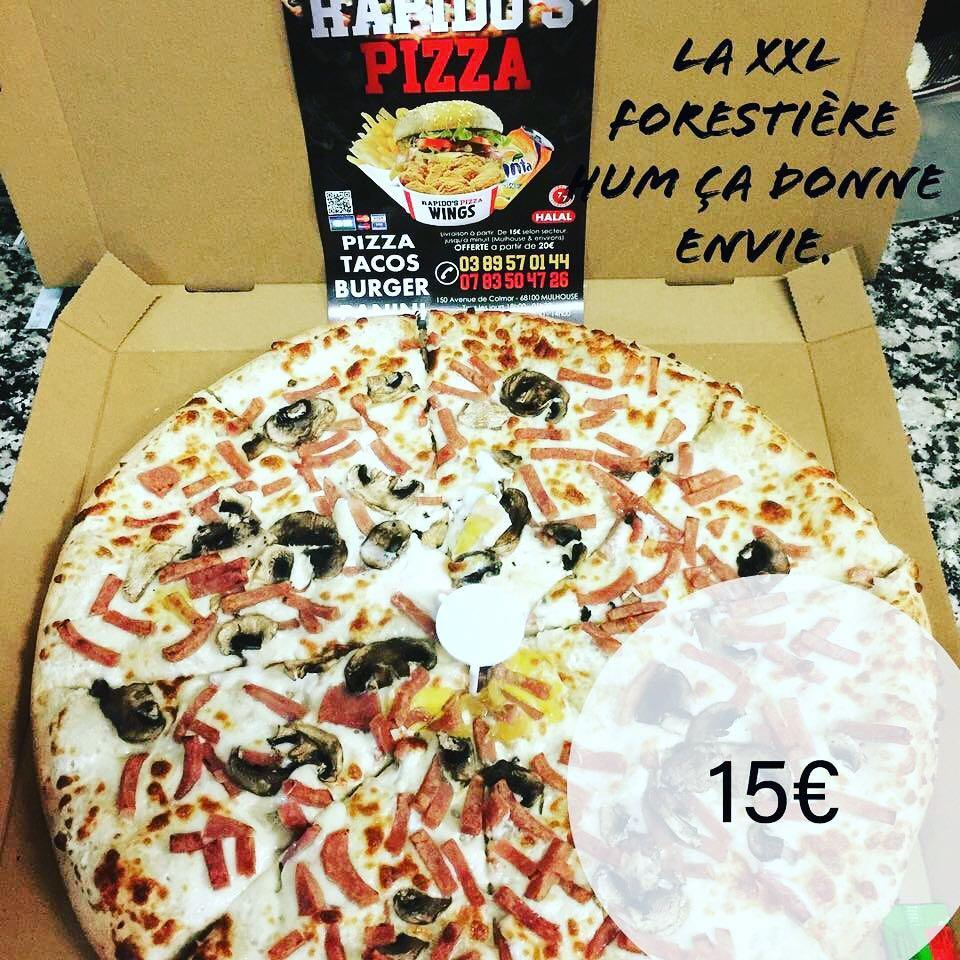Ham: (467, 879, 630, 960), (277, 831, 372, 958), (151, 547, 254, 663), (187, 437, 351, 498), (477, 791, 578, 887), (51, 577, 155, 670), (387, 787, 475, 890), (347, 394, 465, 470), (117, 741, 219, 818), (779, 826, 880, 902), (587, 472, 690, 543), (161, 812, 271, 873), (581, 384, 652, 467), (676, 787, 731, 893), (566, 569, 655, 633), (111, 459, 184, 536), (791, 776, 903, 824), (684, 644, 753, 714), (171, 684, 232, 751), (274, 774, 334, 834), (754, 694, 819, 747), (721, 589, 783, 643), (797, 621, 862, 670), (507, 427, 595, 461), (637, 547, 729, 578), (829, 717, 906, 754), (516, 459, 564, 509), (441, 354, 499, 393)
Mushroom: (661, 707, 731, 803), (587, 857, 672, 922), (687, 606, 765, 669), (636, 671, 688, 733), (391, 884, 447, 924), (747, 819, 792, 867), (362, 371, 419, 397), (594, 801, 633, 838)
Olives: (194, 498, 338, 578), (421, 725, 548, 814), (458, 498, 594, 561), (218, 725, 332, 794), (334, 631, 441, 694), (91, 674, 176, 745), (208, 608, 303, 665), (241, 398, 323, 454), (498, 368, 565, 418), (361, 514, 416, 574), (734, 524, 778, 576)
Pizza: (34, 308, 933, 960)
